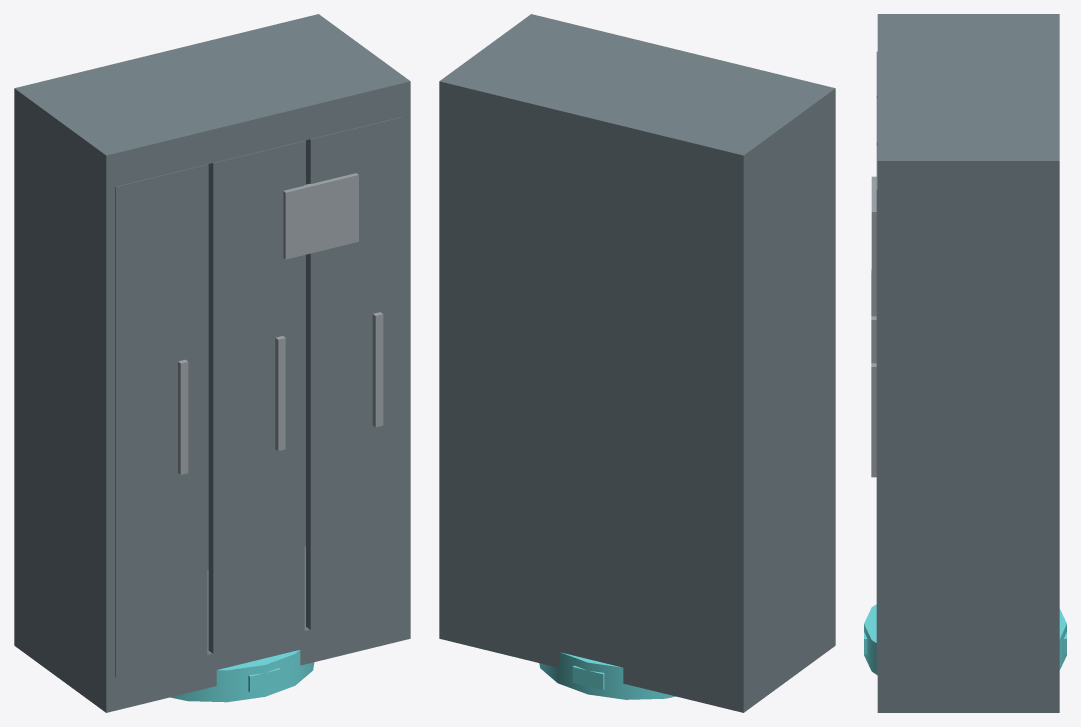
3 views of the same model, side by side, from view 1: azimuth 30°, elevation 25°; view 2: azimuth 150°, elevation 25°; view 3: azimuth 270°, elevation 25° (orthographic).
Visible parts, largest first — view 1: g0010, g0, g0007, g0003, g0008, g0005, g0011, g0001, visualRotor, g0009, g0002, g0004 (+1 smaller); view 2: g0009, g0010, g0008, g0011, visualRotor, g0005; view 3: g0011, g0008, g0010, g0009, visualRotor, g0003, g0005, g0002, g0001.
Part boxes in pixels (box(x1,y1,x2,y2)): g0010: box(14, 84, 124, 712); g0: box(208, 141, 304, 653); g0007: box(115, 164, 207, 677); g0003: box(306, 117, 401, 629); g0008: box(38, 22, 402, 188); g0005: box(80, 546, 410, 712); g0011: box(300, 14, 410, 612); g0001: box(283, 173, 358, 259); visualRotor: box(170, 650, 314, 702); g0009: box(15, 14, 320, 570); g0002: box(372, 312, 383, 427); g0004: box(275, 336, 285, 450); g0009: box(439, 78, 749, 712); g0010: box(725, 84, 835, 685); g0008: box(463, 18, 816, 167); g0011: box(439, 14, 549, 642); visualRotor: box(539, 652, 675, 699); g0005: box(439, 619, 835, 708); g0011: box(877, 152, 1059, 712); g0008: box(877, 22, 1057, 194); g0010: box(877, 14, 1059, 22); g0009: box(1048, 14, 1059, 426); visualRotor: box(864, 604, 1066, 674); g0003: box(876, 145, 877, 675); g0005: box(1003, 680, 1059, 712); g0002: box(871, 363, 876, 477); g0001: box(871, 176, 876, 277).
Size of the model in its own units: 1.2 by 2.16 by 0.7.
